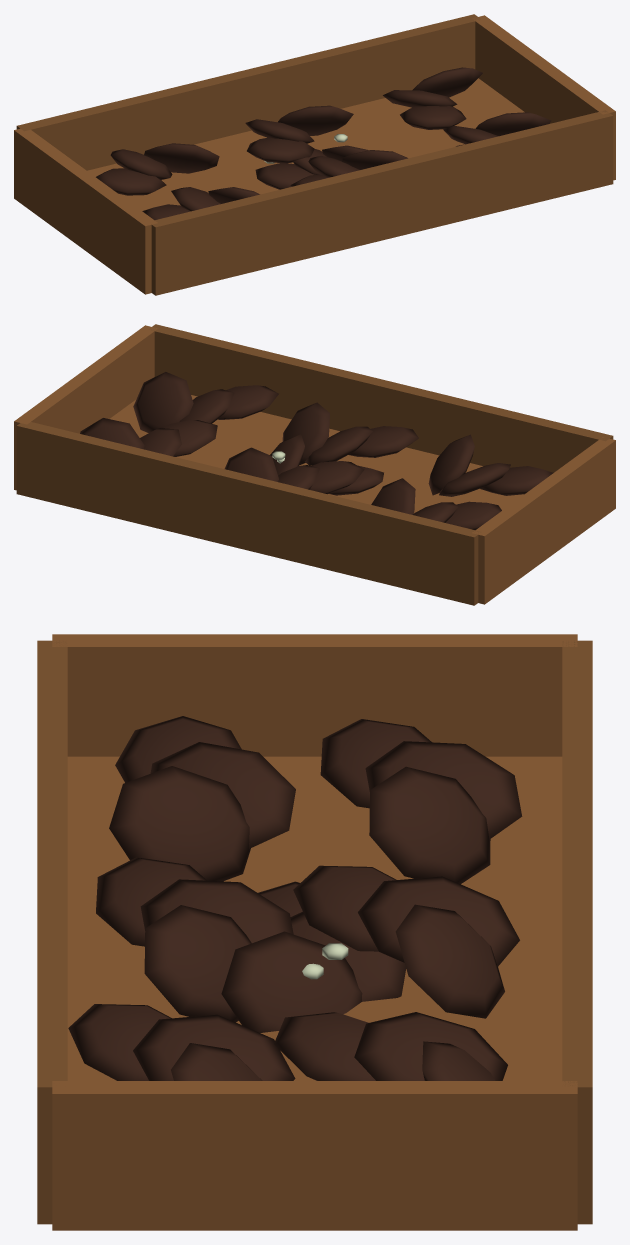
Rendered from Mush_WoodEar.fbx.
The picture shows the model from 3 angles, top to bottom: view 1: azimuth 30°, elevation 25°; view 2: azimuth 150°, elevation 25°; view 3: azimuth 270°, elevation 25°; orthographic projection. The views are drawn at different scales.
Parts seen in each view (by area): view 1: Mush_WoodEar__Stack, Mush_WoodEar; view 2: Mush_WoodEar__Stack, Mush_WoodEar; view 3: Mush_WoodEar__Stack, Mush_WoodEar.
Part boxes in pixels (bbox=[...]): Mush_WoodEar__Stack: bbox=[14, 14, 615, 295]; Mush_WoodEar: bbox=[255, 145, 367, 189]; Mush_WoodEar__Stack: bbox=[14, 324, 615, 605]; Mush_WoodEar: bbox=[270, 434, 383, 495]; Mush_WoodEar__Stack: bbox=[37, 634, 592, 1230]; Mush_WoodEar: bbox=[221, 881, 406, 1032].
Bounding box in the file's own units: 0.2882 × 0.04 × 0.1472.
